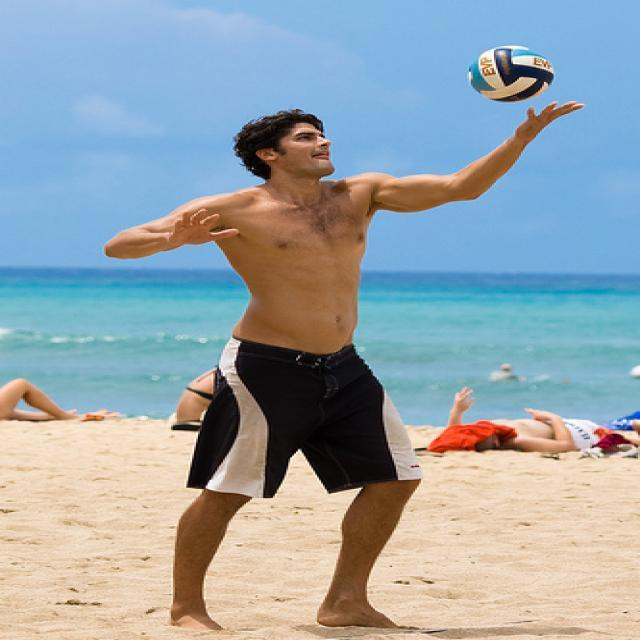volleyball: (468, 44, 554, 104)
